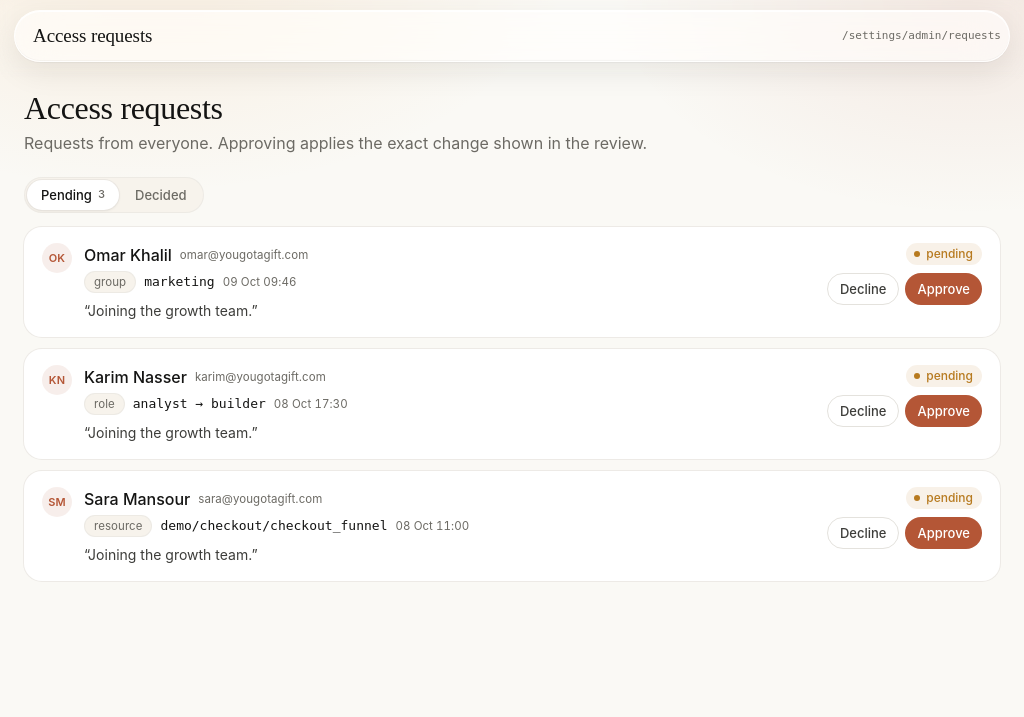
it: AdminRequestsPage › the Pending count decrements after a decision
Expected: the tab "Pending 3" is shown, [27,180,119,210]
Click the button "Approve" in the row of "09 Oct 09:46": (944, 289) [906,273,982,305]
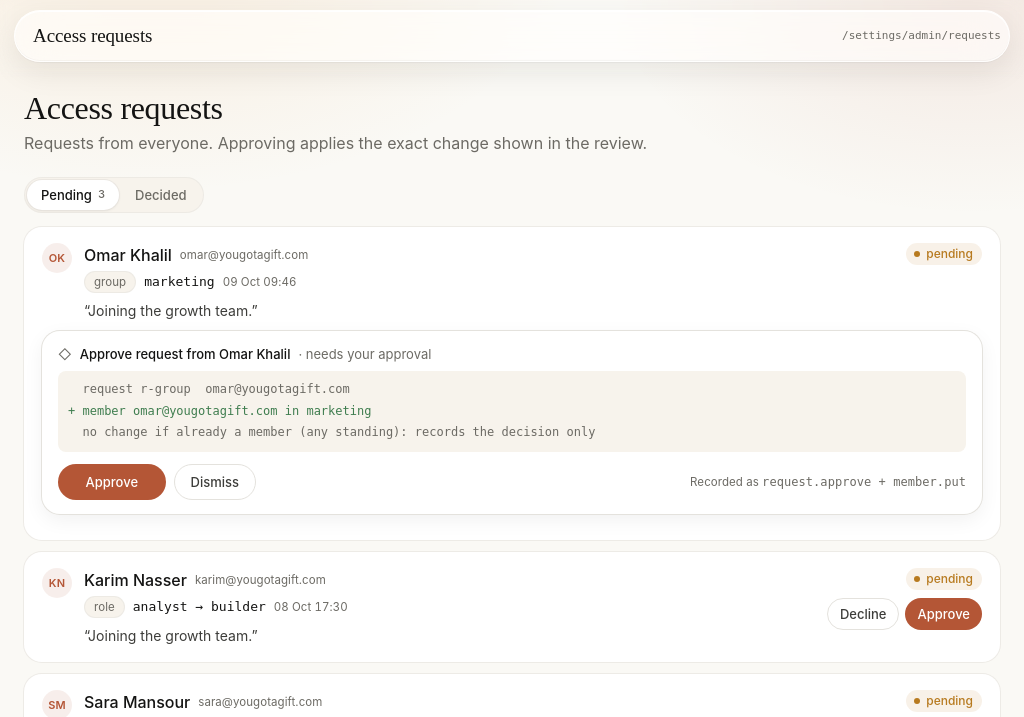
Click the button "Approve" in the row of "Recorded as": (112, 482) [58,464,166,500]
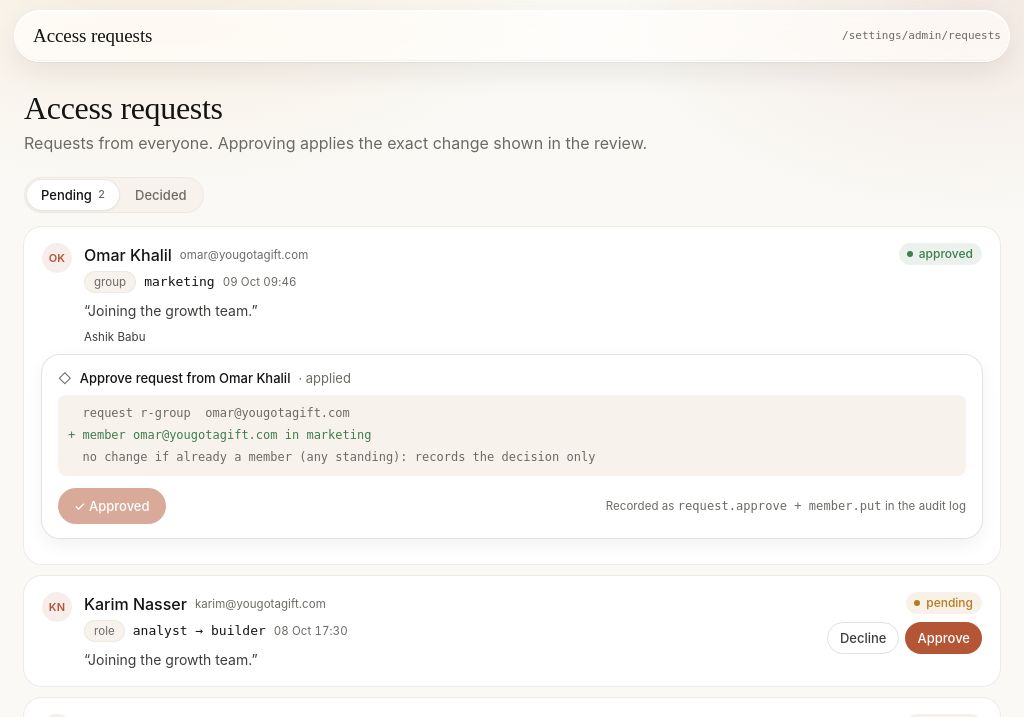
Now the tab "Pending 2" is shown, box [27,180,119,210]
Now the text "approved" is shown, box [899,243,982,265]
